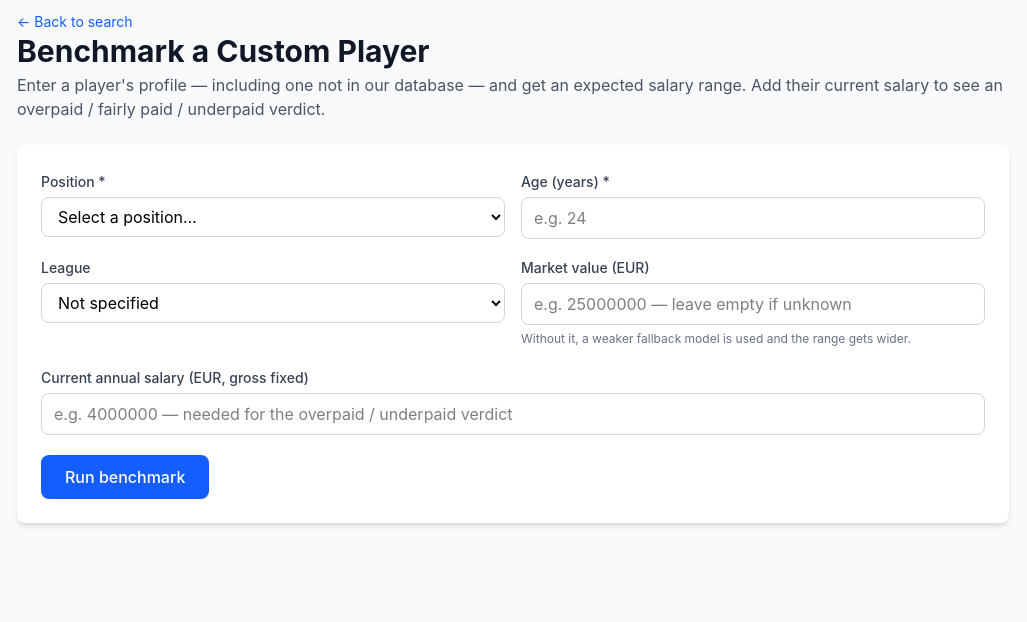
Test case: ManualBenchmark page › validates the age range client-side
Select "Centre-Forward" in the dropdown labelled "Position *" at (273, 217), box top-left (41, 197), bottom-right (505, 237)
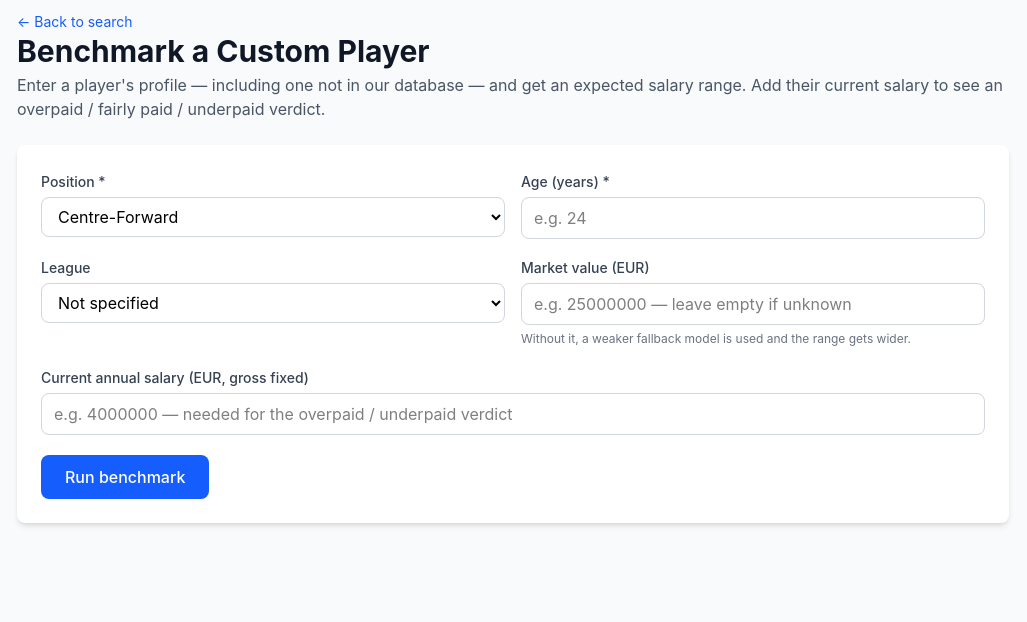
Type "25" into the number field labelled "Age (years) *".
click(753, 218); type("25")  # box top-left (521, 197), bottom-right (985, 239)
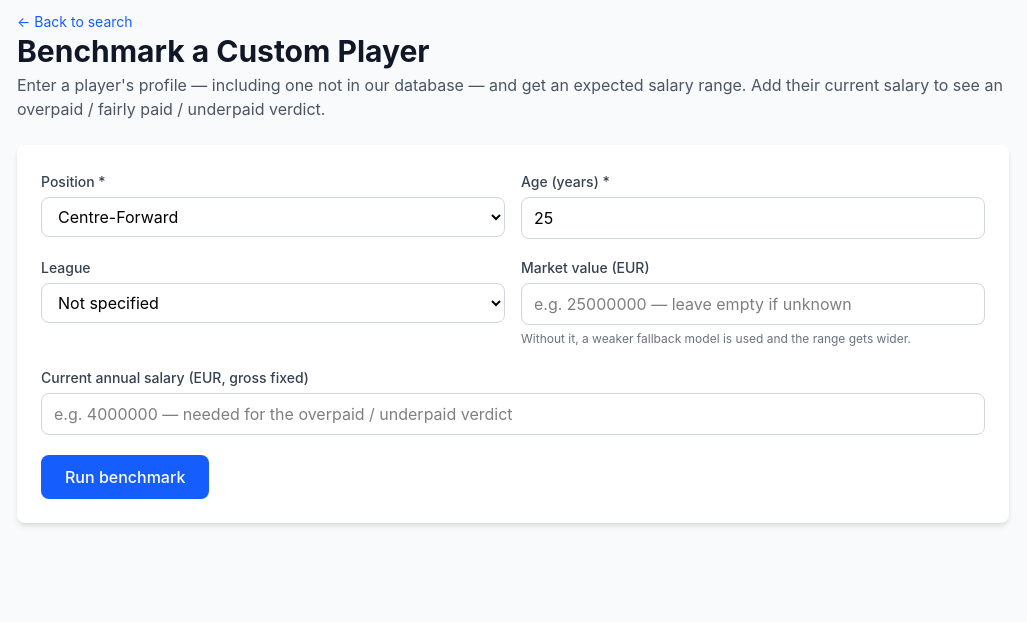
Replace the text in the number field labelled "Age (years) *" with "60" at (753, 218), box top-left (521, 197), bottom-right (985, 239)
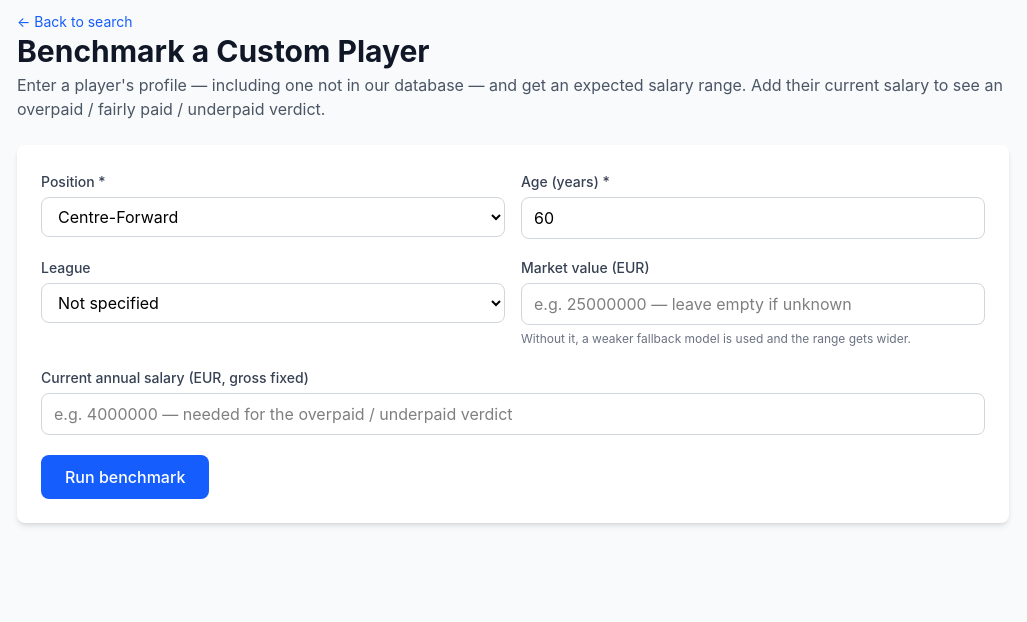
Submit the form named "Run benchmark", box top-left (17, 145), bottom-right (1009, 523)
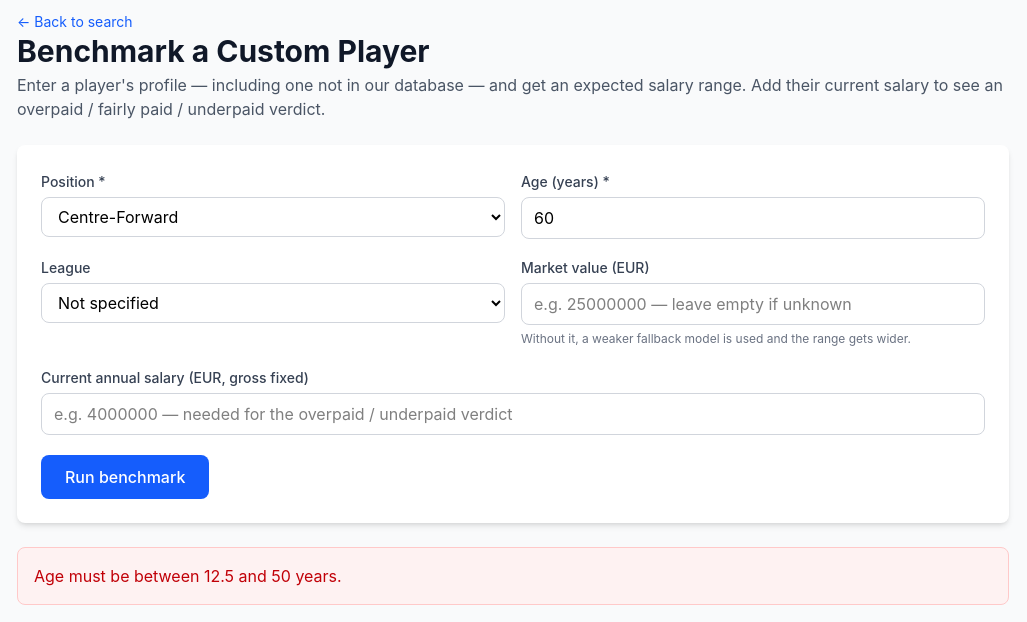
Expected: the text "Age must be between 12.5 and 50 years." is shown, top-left (17, 547), bottom-right (1009, 605)
